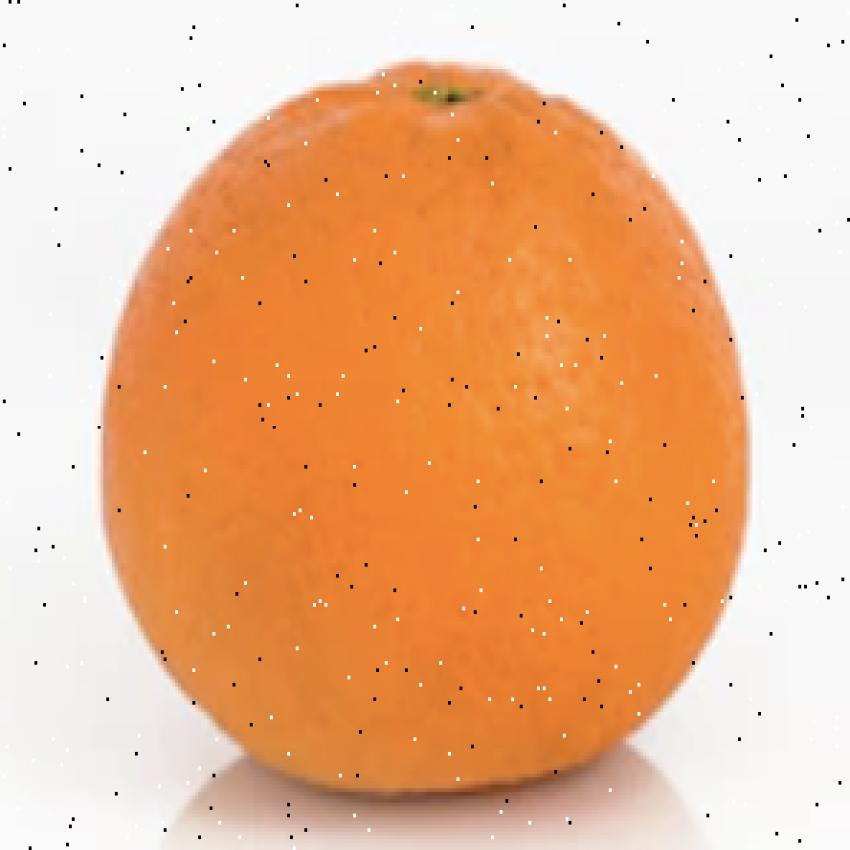Buen estado: (70, 42, 779, 809)
